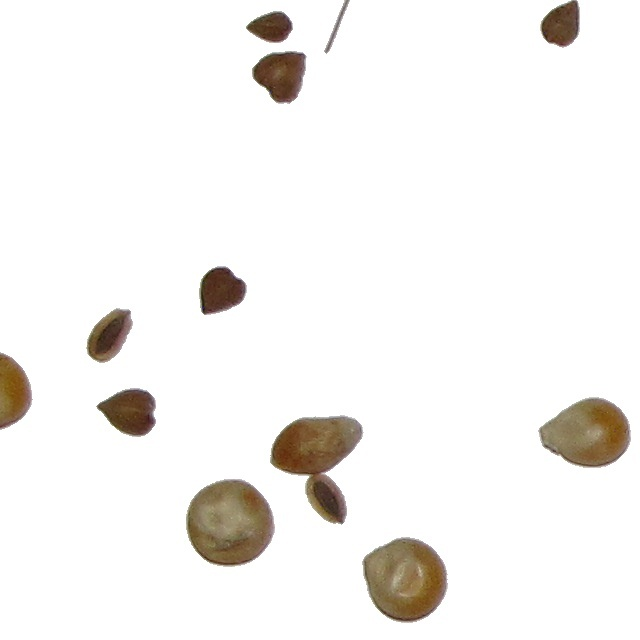buckwheat: (95, 387, 157, 438), (251, 50, 308, 105), (85, 307, 134, 364), (198, 265, 248, 316), (245, 10, 294, 44)
mais: (185, 478, 276, 568), (361, 536, 449, 624), (537, 396, 632, 469), (269, 414, 358, 485)
